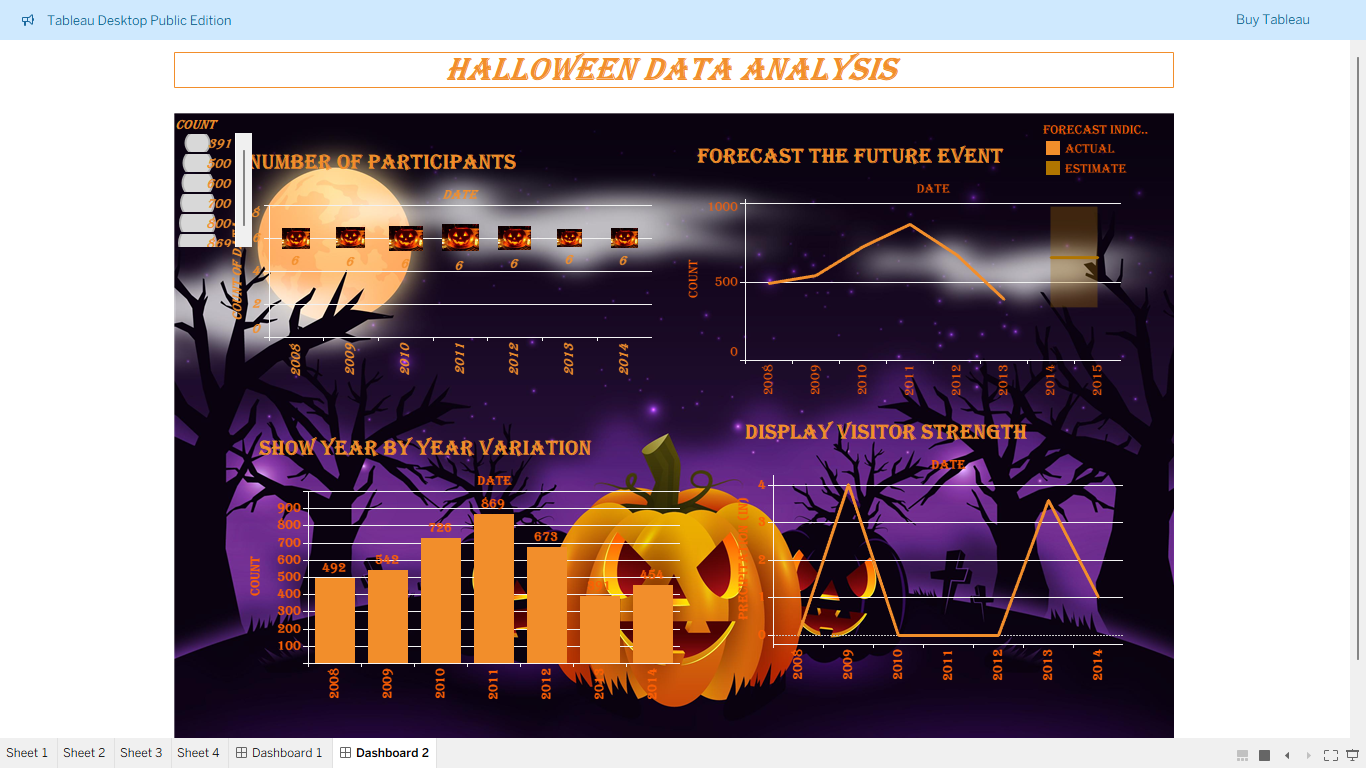

This screenshot's page, from the dashboard's own definition file:
{"tool":"tableau","page":{"name":"Dashboard 1","canvas":[1000,1000],"units":"permille","ordinal":0},"visuals":[{"type":"legend","title":"Sheet 2","param":"[federated.0gwcla01q3osgo159b5lu1so599q].[none:Forecast Indicator:nk]","box":[5.1,15.2,989.7,121.2]},{"type":"image","box":[30.2,62.4,228.7,219.7]},{"type":"worksheet","title":"Sheet 1","mark":"Shape","rows":["Data_4752338C4E4D48818CBBEE82CF7439A9"],"cols":["Date"],"box":[19.9,119.9,335.6,318.4]},{"type":"worksheet","title":"Sheet 3","mark":"Bar","rows":["Count"],"cols":["Date"],"box":[362.1,128.6,330.1,325.8]},{"type":"image","box":[5.1,136.4,989.7,141.1]},{"type":"image","box":[57.8,170.5,243.4,333.3]},{"type":"image","box":[5.1,277.4,989.7,94.7]},{"type":"image","box":[5.1,372.2,989.7,141.1]},{"type":"worksheet","title":"Sheet 4","mark":"Automatic","rows":["Precipitation (in)"],"cols":["Date"],"box":[355.5,498.1,296.9,325.8]},{"type":"worksheet","title":"Sheet 2","mark":"Automatic","rows":["Count"],"cols":["Date"],"box":[19.3,510.6,330.1,325.8]},{"type":"image","box":[5.1,513.2,989.7,94.7]},{"type":"image","box":[5.1,607.9,989.7,141.1]},{"type":"image","box":[5.1,749,989.7,141.1]},{"type":"image","box":[5.1,890.1,989.7,94.7]}]}

Visuals, with their boxes on the dashboard's canvas, which has no fixed pixel size, in thousandths of its width and height (x1, y1, x2, y2). These are canvas units, not pixel positions in the 1366x768 screenshot, which may show the page scaled, cropped or inside an application window:
"Sheet 2" legend: 5, 15, 995, 136
image: 30, 62, 259, 282
"Sheet 1" worksheet (Shape marks): 20, 120, 356, 438
"Sheet 3" worksheet (Bar marks): 362, 129, 692, 454
image: 5, 136, 995, 278
image: 58, 170, 301, 504
image: 5, 277, 995, 372
image: 5, 372, 995, 513
"Sheet 4" worksheet: 356, 498, 652, 824
"Sheet 2" worksheet: 19, 511, 349, 836
image: 5, 513, 995, 608
image: 5, 608, 995, 749
image: 5, 749, 995, 890
image: 5, 890, 995, 985
